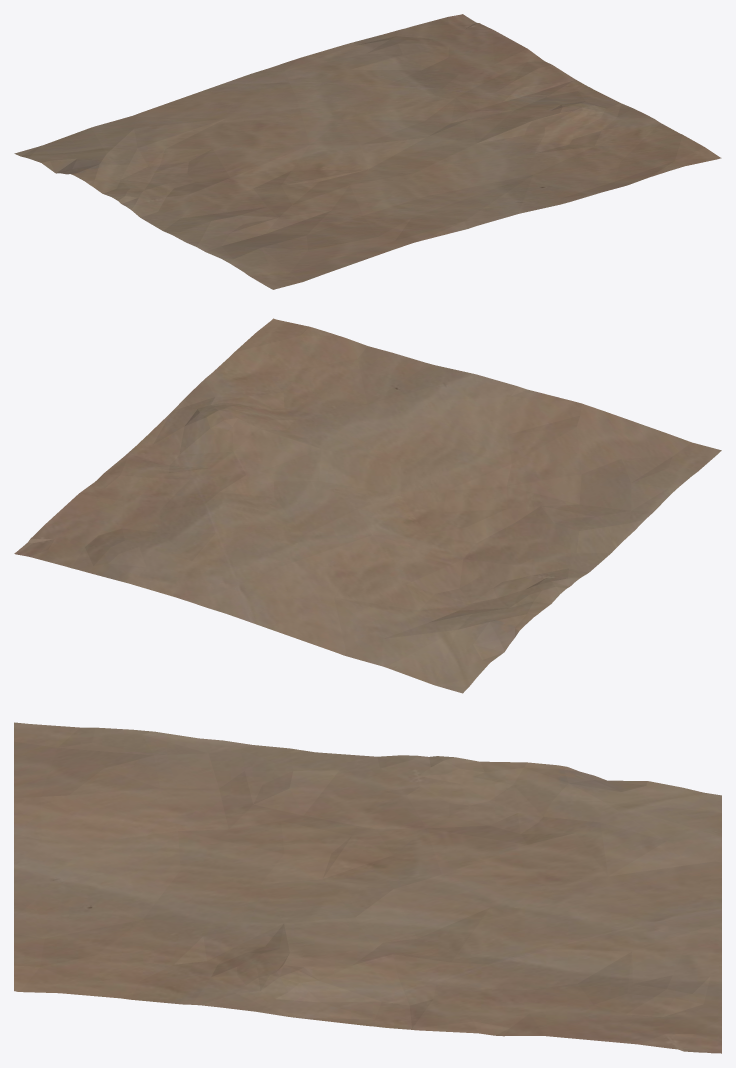
3 views of the same model, one above another, from view 1: azimuth 30°, elevation 25°; view 2: azimuth 150°, elevation 25°; view 3: azimuth 270°, elevation 25° (orthographic). The views are drawn at different scales.
Size of the model in its own units: 2.09 by 0.3406 by 2.09.
Materials: 3 (3 with a texture image).
